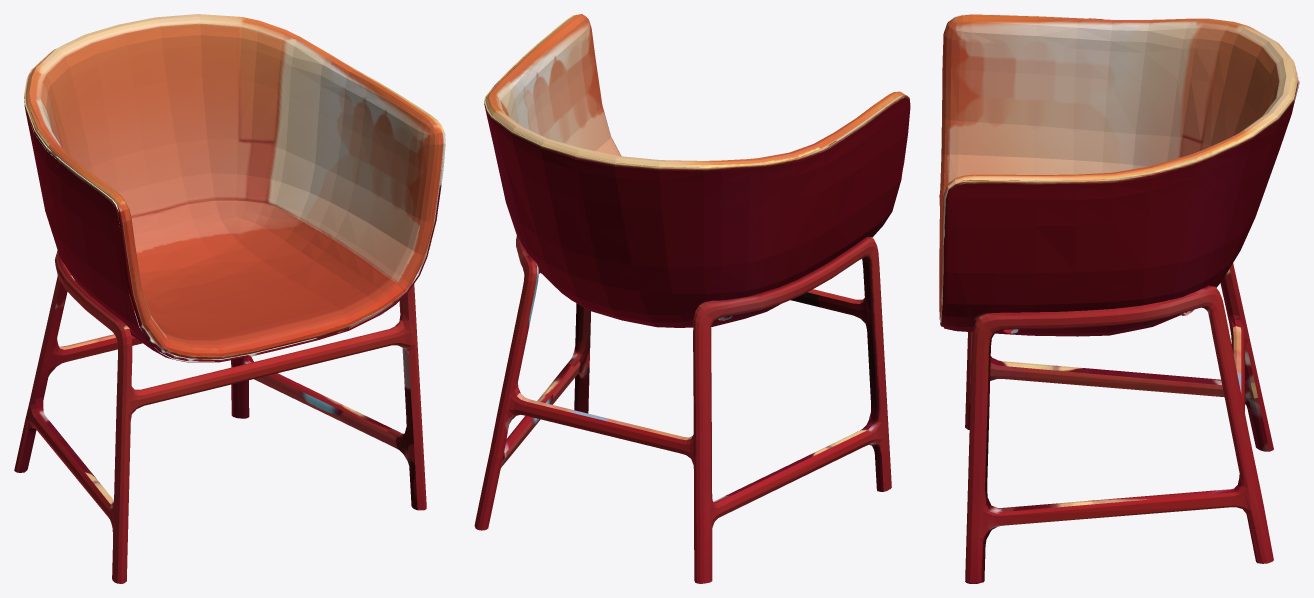
The model's file is edited_mesh.glb.
3 views of the same model, side by side, from view 1: azimuth 30°, elevation 25°; view 2: azimuth 150°, elevation 25°; view 3: azimuth 270°, elevation 25° (orthographic). The views are drawn at different scales.
Parts seen in each view (by area): view 1: normalized_model.obj; view 2: normalized_model.obj; view 3: normalized_model.obj.
Boxes of the visible parts, x1,y1,x2,y2 form: normalized_model.obj: [14, 14, 445, 583]; normalized_model.obj: [474, 14, 910, 583]; normalized_model.obj: [939, 14, 1299, 583].
Size of the model in its own units: 1.18 by 1.41 by 1.07.
Materials: 1 (1 with a texture image).
